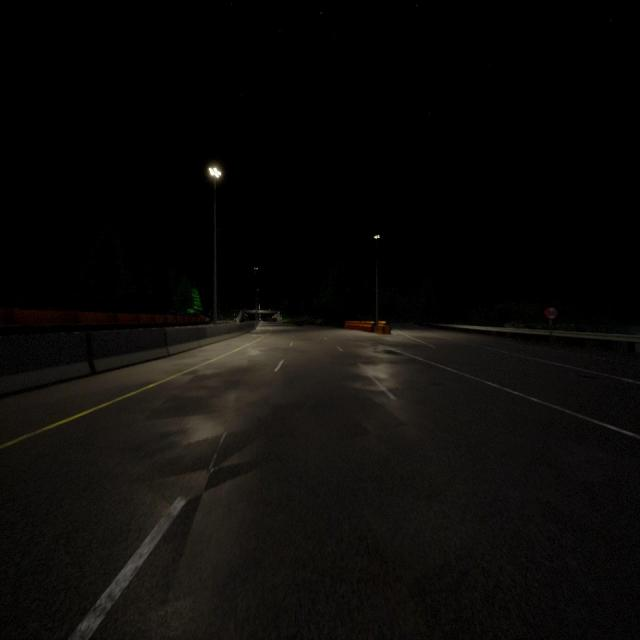Traffic_Signs: (545, 307, 557, 320)
